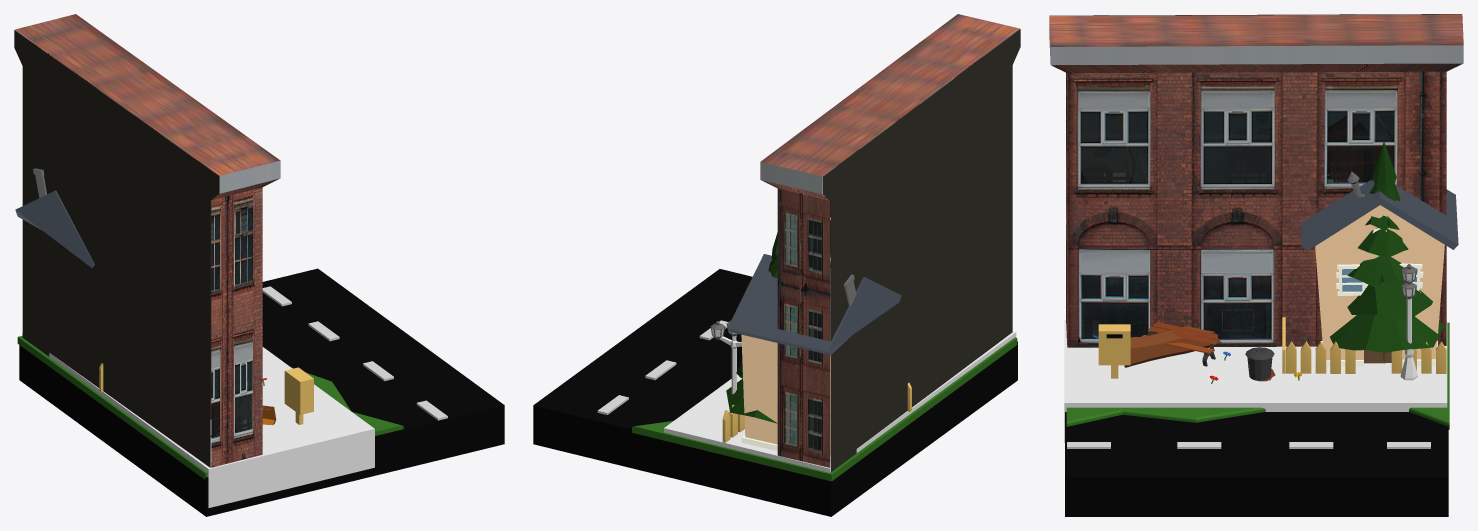
The model's file is environment.glb.
3 views of the same model, side by side, from view 1: azimuth 30°, elevation 25°; view 2: azimuth 150°, elevation 25°; view 3: azimuth 270°, elevation 25° (orthographic). The views are drawn at different scales.
Parts seen in each view (by area): view 1: Building, road, Cube, Snow, h2, Mailbox, lines; view 2: Building, road, h2, Cube, Snow, Tree, lines, Lamp, Cube.002; view 3: Building, road, Cube, h2, Tree, Snow, EmptyLog, Cube.001, Mailbox, lines, Cube.007, Lamp (+2 smaller).
Part boxes in pixels (bbox=[...]): Building: bbox=[14, 14, 280, 467]; road: bbox=[19, 268, 504, 516]; Cube: bbox=[22, 333, 374, 507]; Snow: bbox=[17, 336, 403, 479]; h2: bbox=[15, 168, 94, 267]; Mailbox: bbox=[284, 367, 313, 424]; lines: bbox=[262, 286, 447, 420]; Building: bbox=[760, 14, 1020, 472]; road: bbox=[533, 269, 1017, 516]; h2: bbox=[727, 254, 901, 463]; Cube: bbox=[664, 331, 1016, 472]; Snow: bbox=[632, 337, 1017, 481]; Tree: bbox=[726, 232, 777, 423]; lines: bbox=[597, 320, 728, 414]; Lamp: bbox=[710, 320, 741, 414]; Cube.002: bbox=[722, 404, 744, 442]; Building: bbox=[1049, 14, 1463, 347]; road: bbox=[1065, 412, 1448, 516]; Cube: bbox=[1064, 320, 1447, 442]; h2: bbox=[1300, 171, 1458, 366]; Tree: bbox=[1330, 141, 1444, 363]; Snow: bbox=[1066, 322, 1449, 429]; EmptyLog: bbox=[1124, 326, 1221, 367]; Cube.001: bbox=[1286, 341, 1355, 373]; Mailbox: bbox=[1098, 324, 1130, 378]; lines: bbox=[1067, 442, 1430, 448]; Cube.007: bbox=[1141, 322, 1217, 366]; Lamp: bbox=[1400, 264, 1417, 380].
Size of the model in its own units: 7.94 by 8.74 by 9.27.
Materials: 21 (3 with a texture image).
